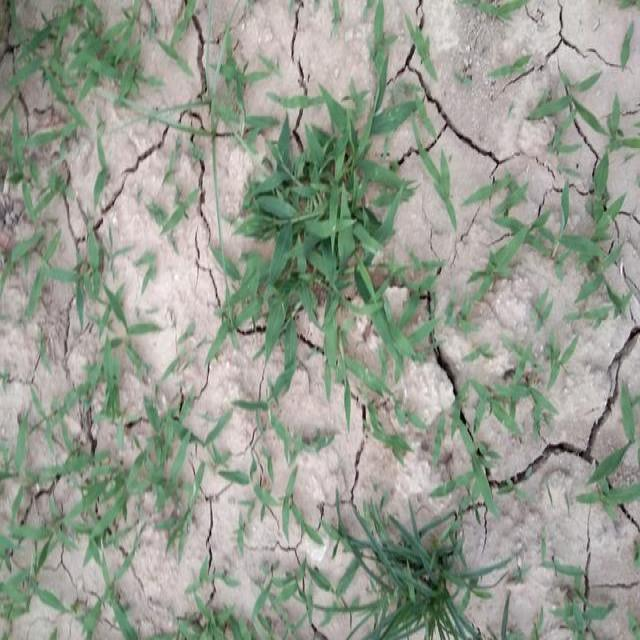weed: (237, 73, 403, 371), (350, 511, 508, 637), (478, 171, 617, 250), (139, 395, 201, 537), (38, 10, 143, 91), (444, 372, 509, 493)
